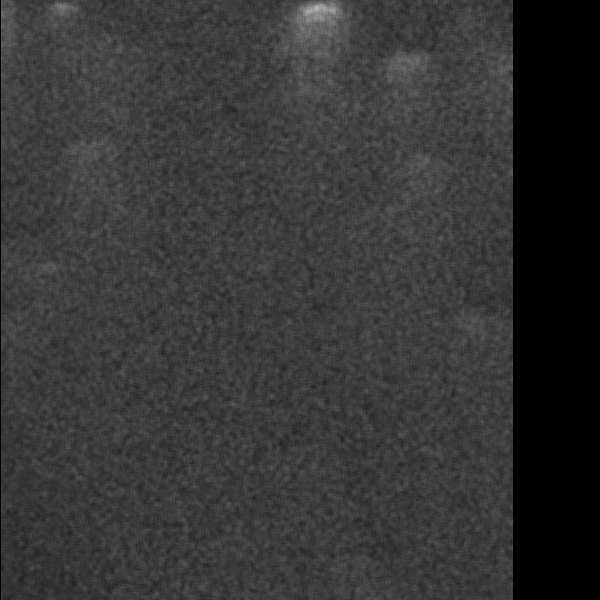spark: (186, 507, 246, 583), (433, 299, 471, 336)
